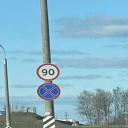speed_limit_90: (36, 63, 59, 81)
